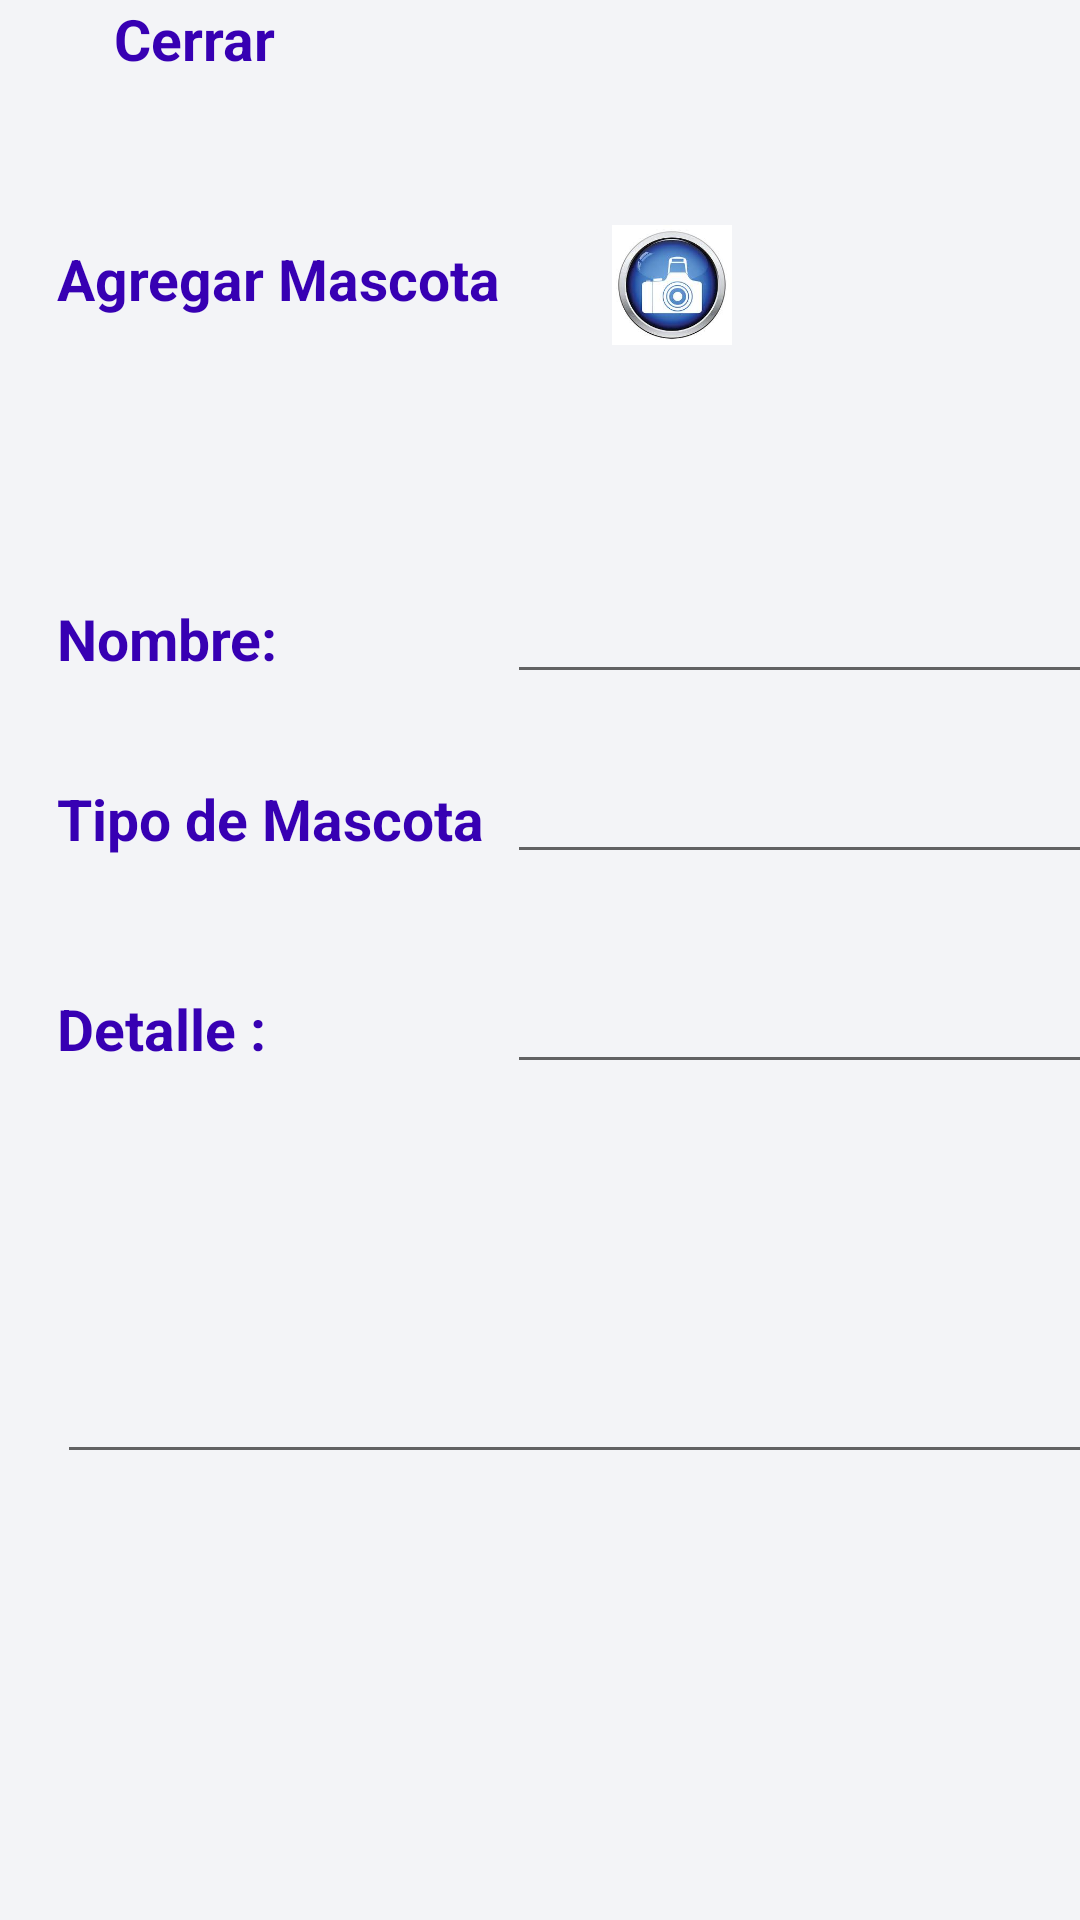

Icons on this 1080 × 1920 Android screen, each with its box as (x1,y1,x2,y2):
camara: (618,231,726,339)
